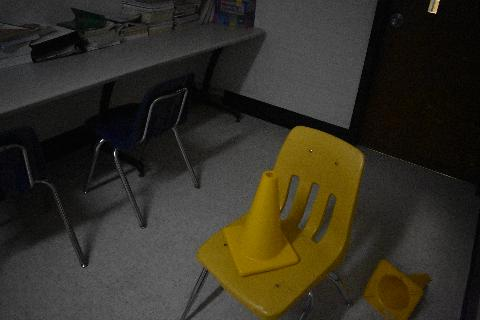cone: (222, 169, 300, 277), (363, 258, 431, 320)
